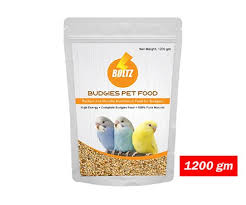budgie: (130, 120, 160, 157), (112, 115, 134, 157), (95, 116, 114, 153)
